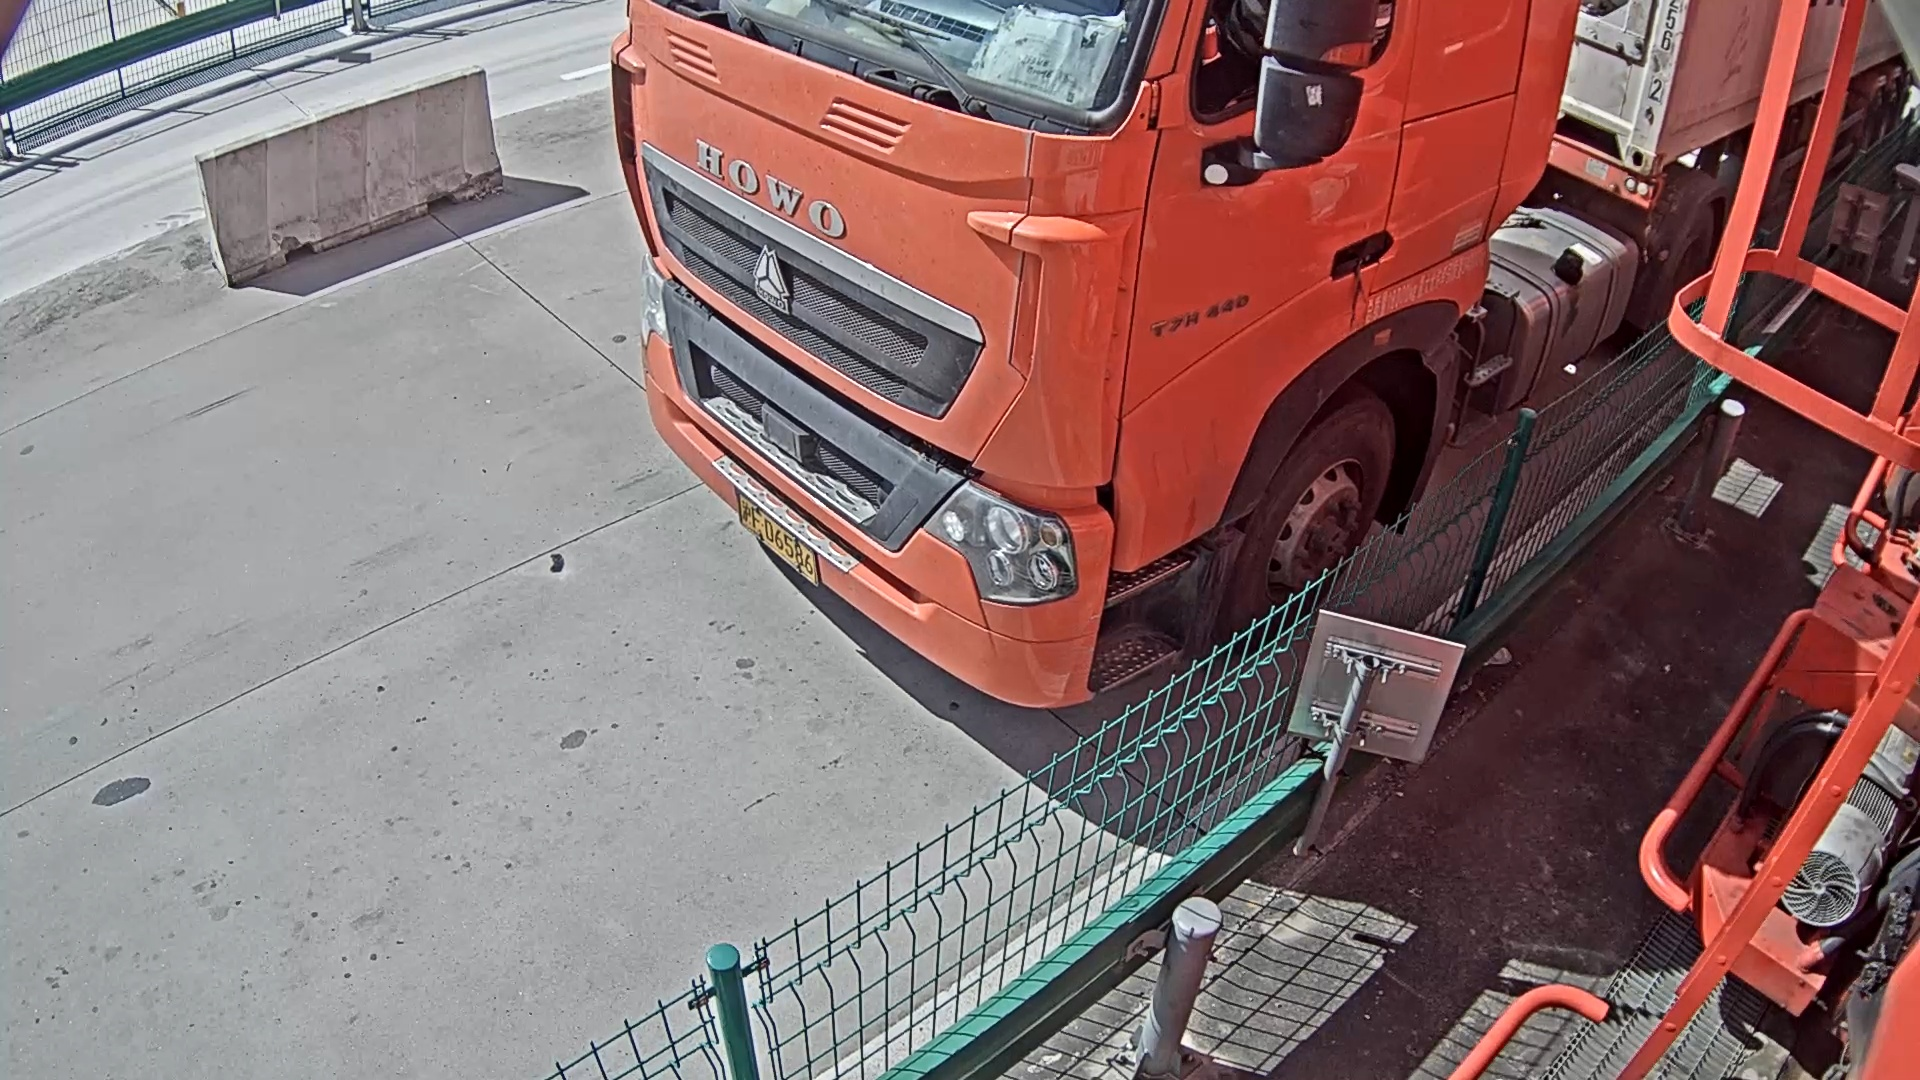head: (607, 2, 1592, 715)
plate: (735, 490, 817, 580)
